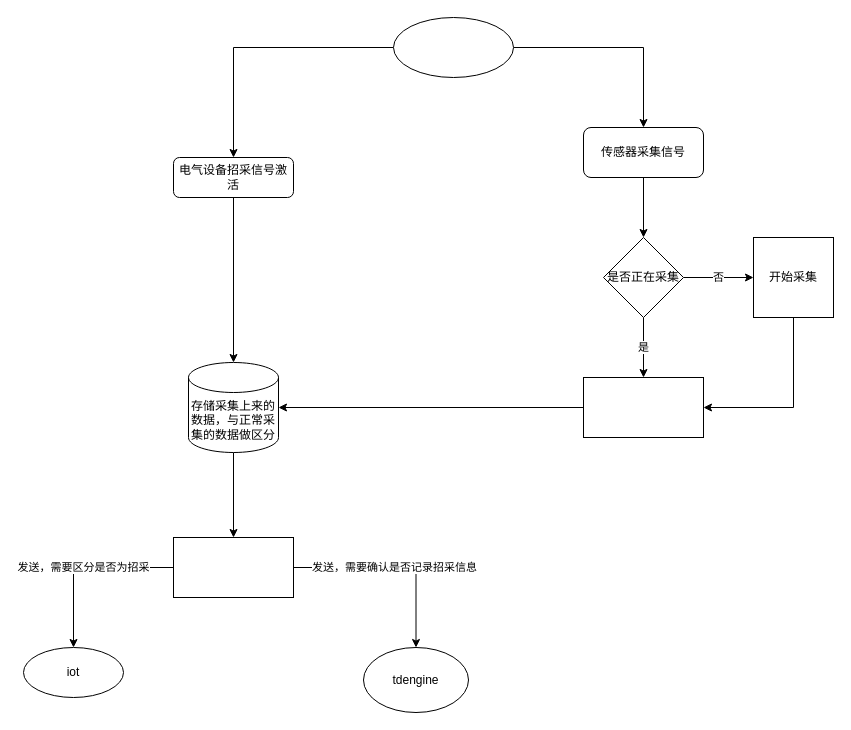
Some shapes in this 851 by 730 pixel diagram are drawn without their labels. The shapes that lost their labels are listed below. From the top down, each one's centre as x and y in pixels, then its label:
(453,47): 招采命令下达
(643,407): 采集数据发送
(233,567): 采集完成后发送数据，并将招采信号关闭，清空招采数据存储
